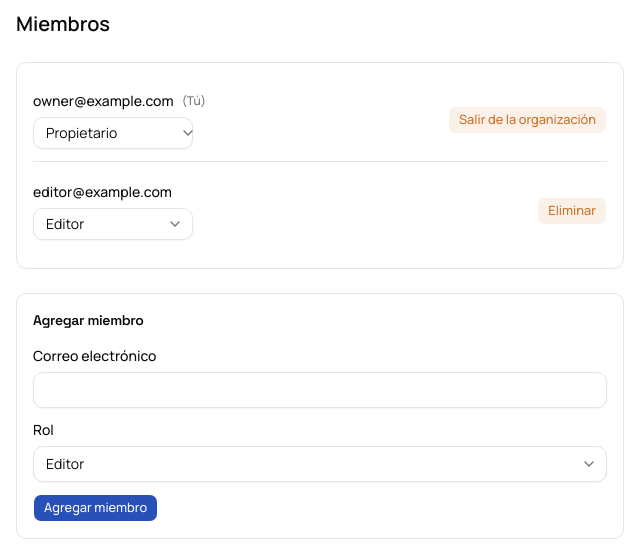
MembersPage › a successful remove updates the list without a manual refetch
This screenshot has width=641, height=556.
Check: the text "editor@example.com" is shown, box x1=33 y1=182 x2=172 y2=202
Click the button "Eliminar": (572, 211) x1=537 y1=197 x2=607 y2=225
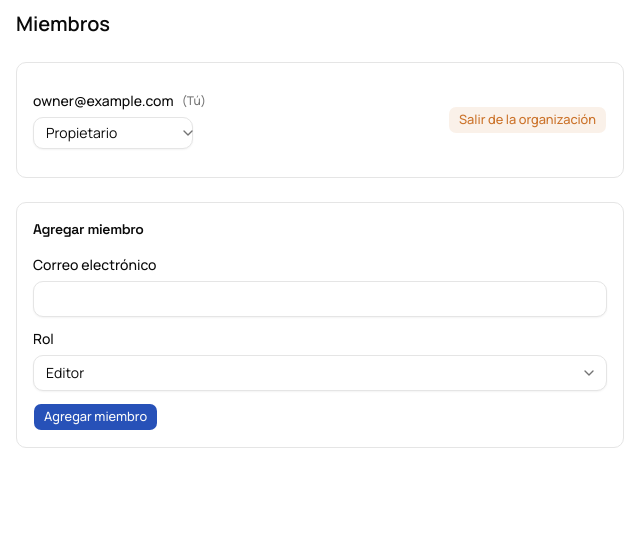
Check: the text "editor@example.com" is gone
